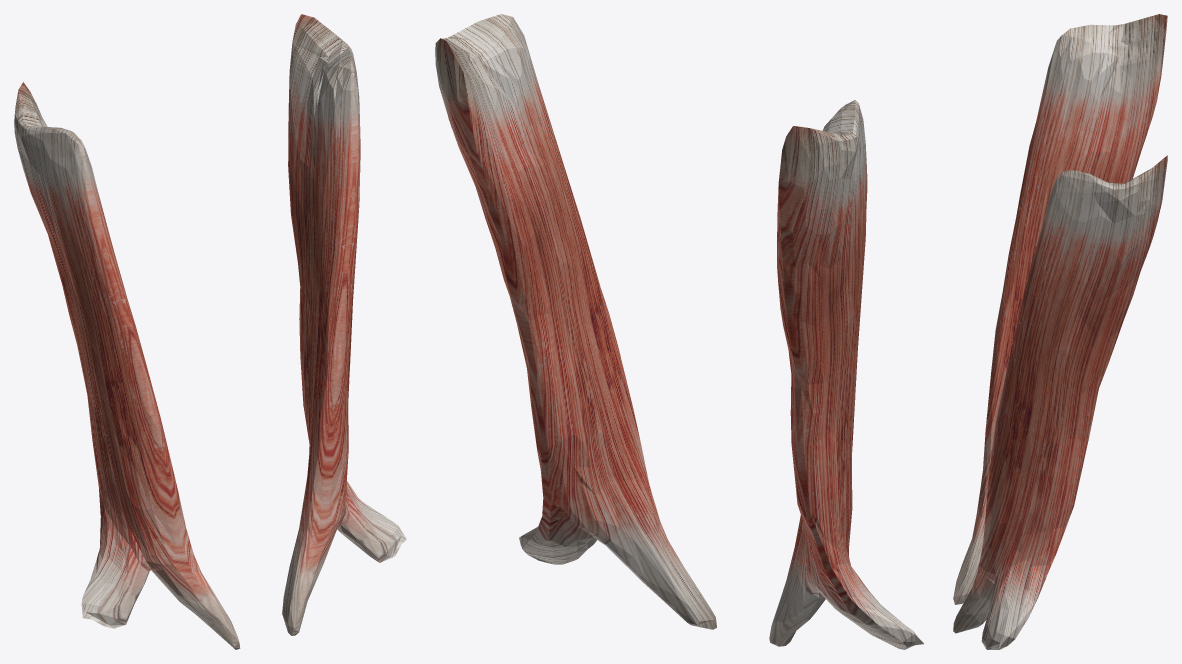
File: Sternocletomastoid.obj
3 views of the same model, side by side, from view 1: azimuth 30°, elevation 25°; view 2: azimuth 150°, elevation 25°; view 3: azimuth 270°, elevation 25° (orthographic). The views are drawn at different scales.
Parts seen in each view (by area): view 1: Musculos_Cabeza_1:Sternocletomastoid:Sternocletomastoid; view 2: Musculos_Cabeza_1:Sternocletomastoid:Sternocletomastoid; view 3: Musculos_Cabeza_1:Sternocletomastoid:Sternocletomastoid.
Boxes of the visible parts, bbox=[...] form: Musculos_Cabeza_1:Sternocletomastoid:Sternocletomastoid: bbox=[14, 14, 406, 649]; Musculos_Cabeza_1:Sternocletomastoid:Sternocletomastoid: bbox=[435, 14, 923, 649]; Musculos_Cabeza_1:Sternocletomastoid:Sternocletomastoid: bbox=[953, 14, 1167, 649].
Bounding box in the file's own units: 0.5535 × 0.83 × 0.3025.
Materials: 1 (1 with a texture image).
